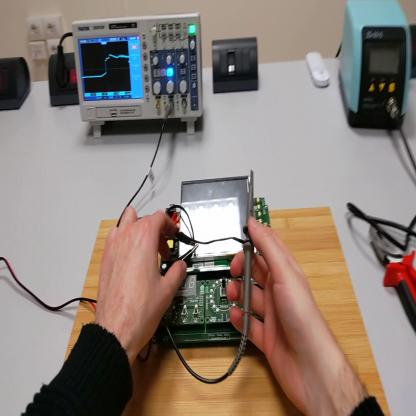hand: (227, 215, 328, 407), (95, 204, 188, 355)
low voltage board: (163, 192, 273, 348)
oscilloscope: (73, 12, 206, 137)
oscilloscope probe tip: (242, 170, 255, 353)
pliers: (371, 216, 416, 336)
socket: (2, 56, 33, 115), (49, 51, 80, 107), (410, 23, 416, 82)
welder station: (341, 3, 411, 132)
working area: (64, 209, 391, 416)
